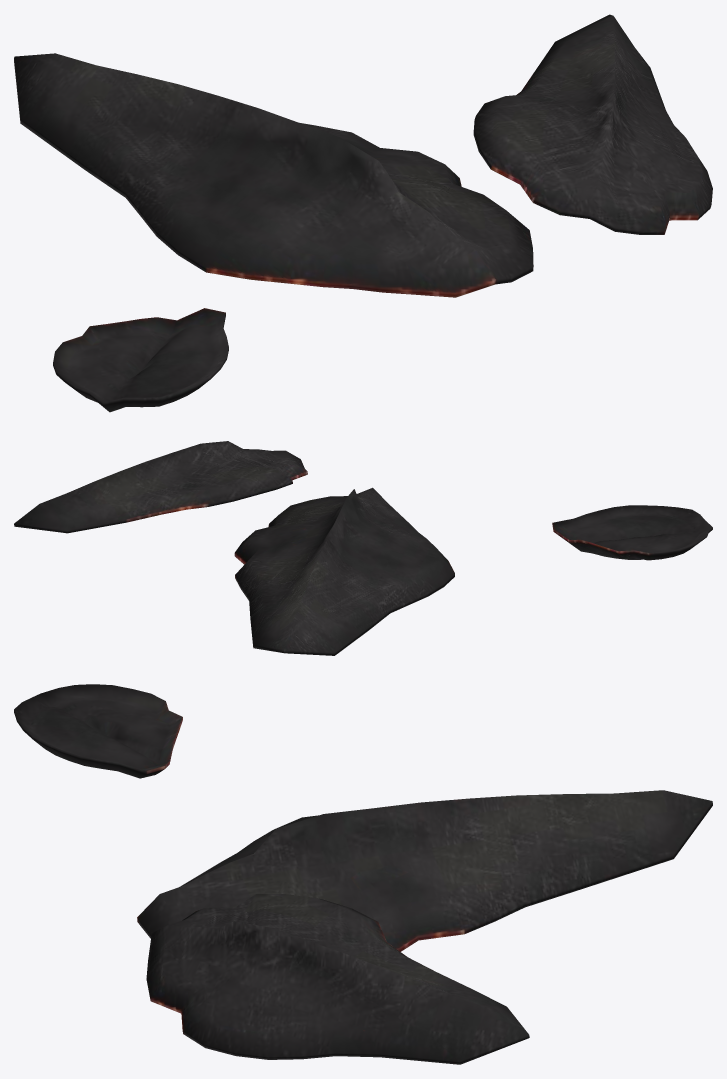
File: b4p_dragon_scale.glb
3 renders of one model, top to bottom at view 1: azimuth 30°, elevation 25°; view 2: azimuth 150°, elevation 25°; view 3: azimuth 270°, elevation 25°, orthographic. The views are drawn at different scales.
Visible parts, largest first — view 1: b4p_dragon_scale; view 2: b4p_dragon_scale; view 3: b4p_dragon_scale.
Part boxes in pixels (x1,y1,x2,y2): b4p_dragon_scale: (14, 14, 712, 412); b4p_dragon_scale: (14, 441, 712, 655); b4p_dragon_scale: (14, 684, 712, 1064).
Bounding box in the file's own units: 0.9957 × 0.1223 × 0.8254.
Materials: 1 (1 with a texture image).
